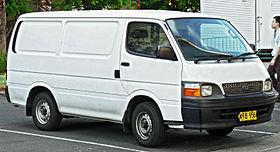van: (6, 11, 279, 142)
